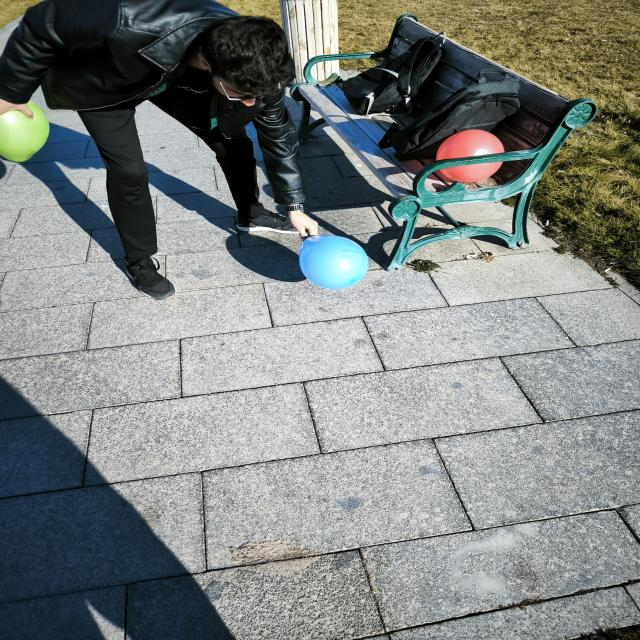balloon: (299, 235, 368, 289), (0, 101, 49, 162), (436, 130, 504, 160), (440, 162, 502, 182)
